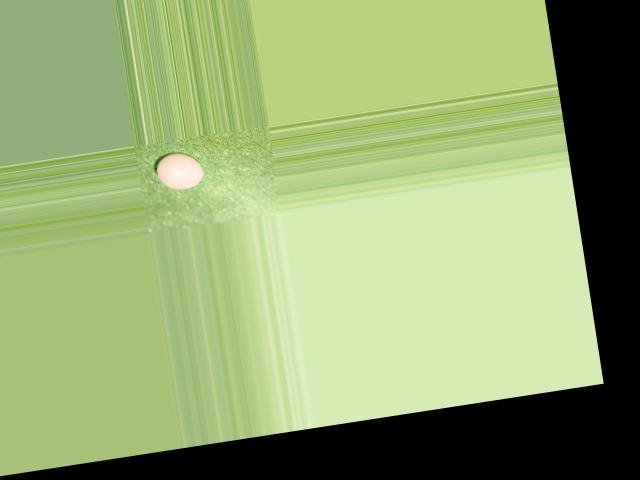egg: (154, 148, 206, 192)
